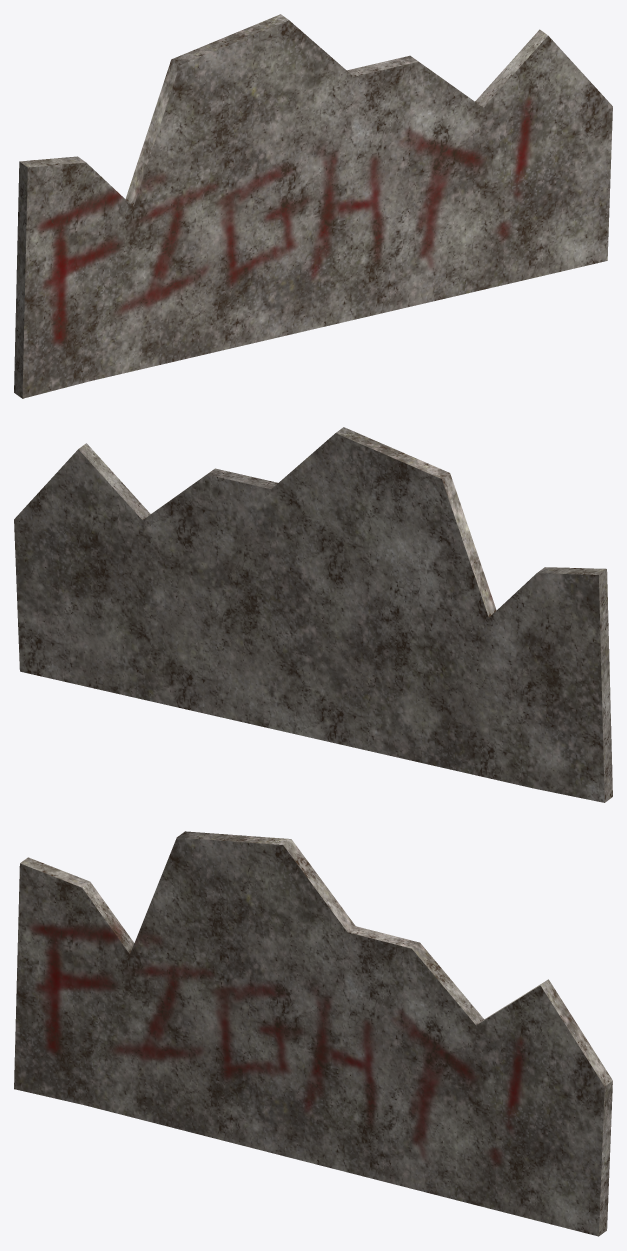
File: SueloEdificio3.obj
3 renders of one model, top to bottom at view 1: azimuth 30°, elevation 25°; view 2: azimuth 150°, elevation 25°; view 3: azimuth 330°, elevation 25°, orthographic.
Parts seen in each view (by area): view 1: Object025; view 2: Object025; view 3: Object025.
Part boxes in pixels (x1,y1,x2,y2): Object025: [14, 14, 612, 398]; Object025: [14, 427, 612, 802]; Object025: [14, 831, 612, 1236].
Size of the model in its own units: 115 by 58.78 by 4.07.
1 material, 1 textured.
